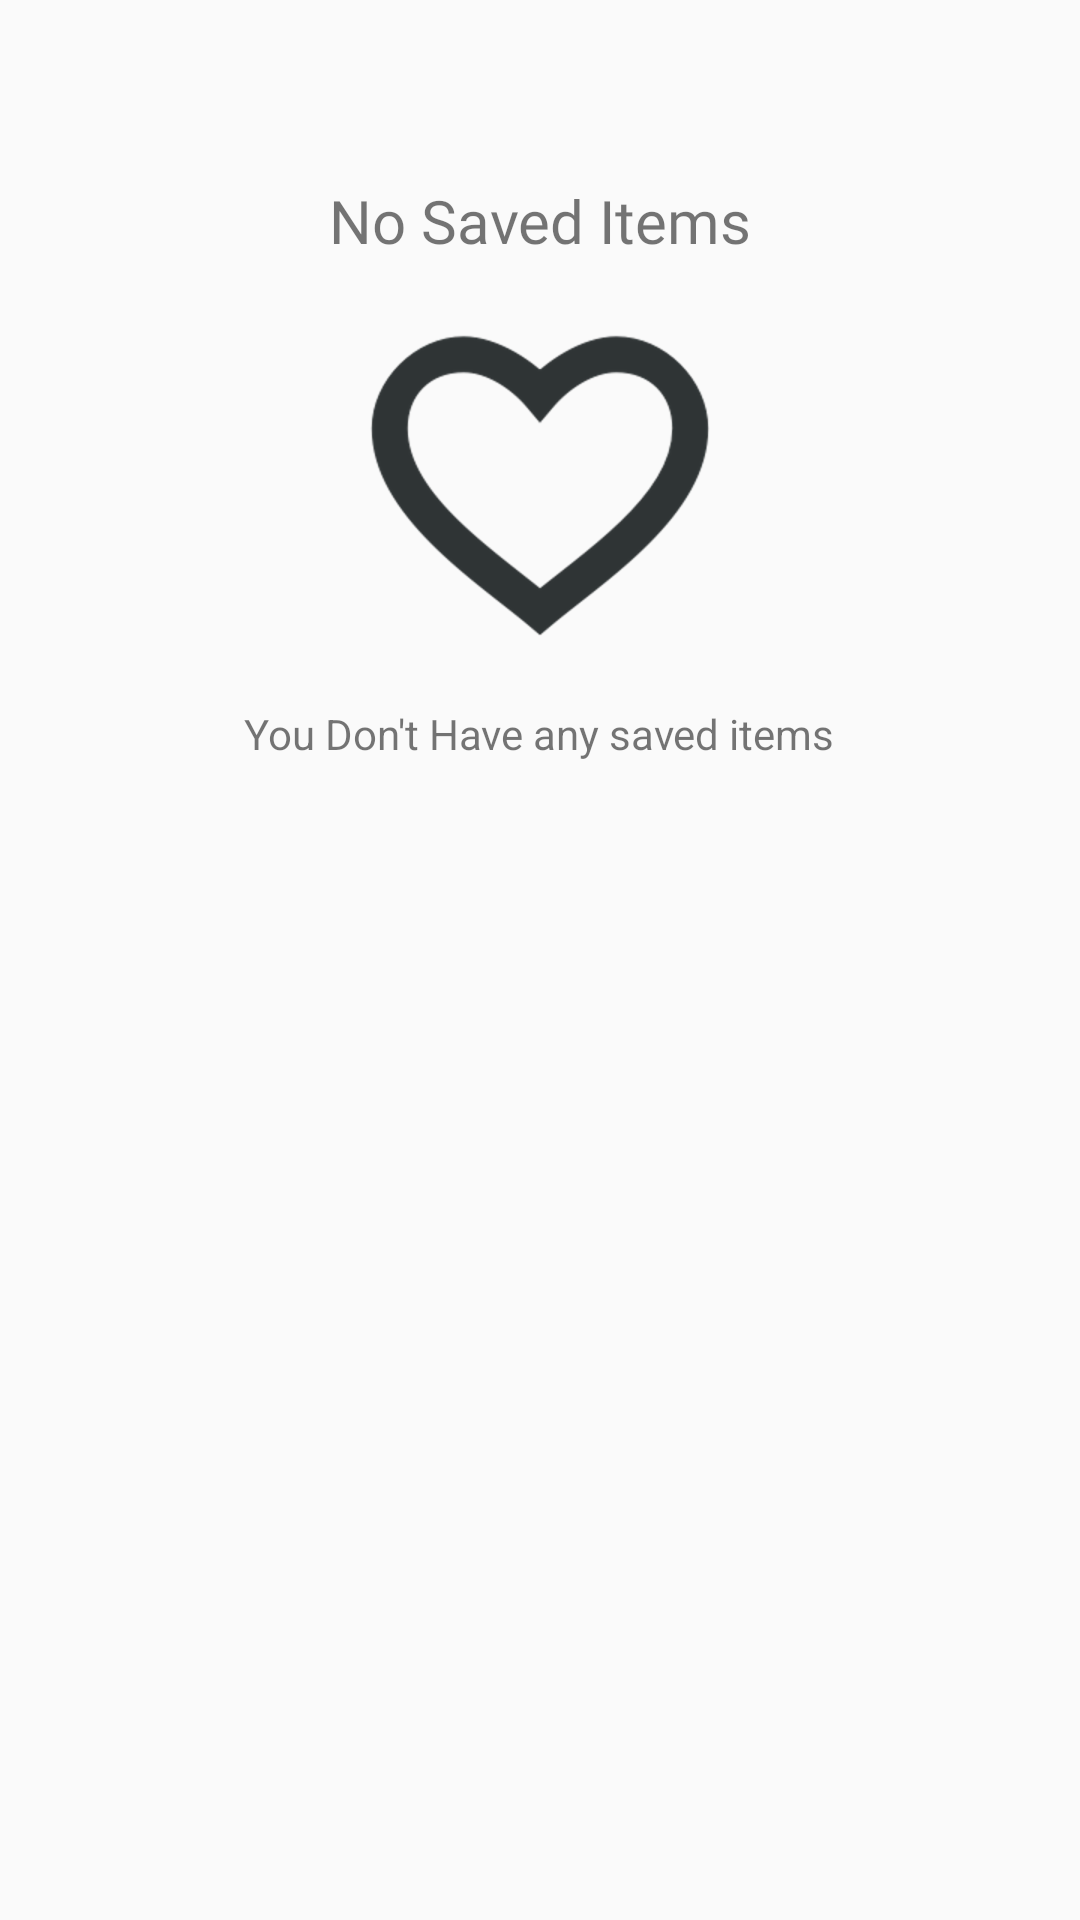

Point at icon controls on the screen. Image size 1080px×1920px, points as (x,y).
favoritebig: (540,485)
